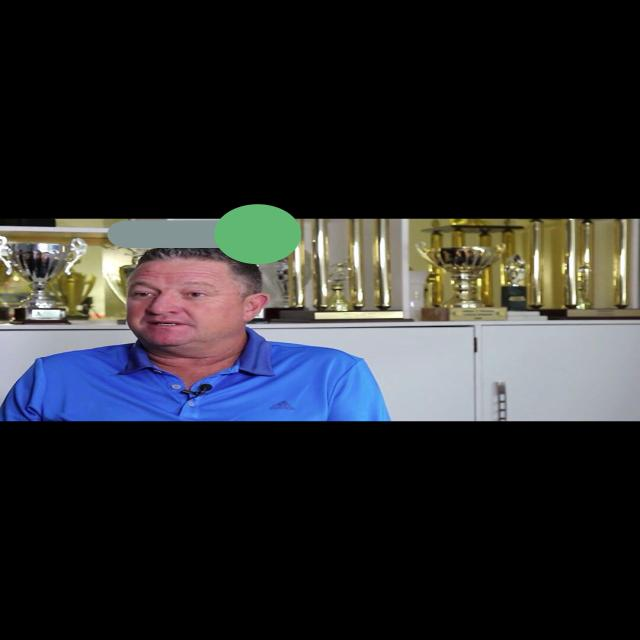social proof: (107, 167, 301, 301)
